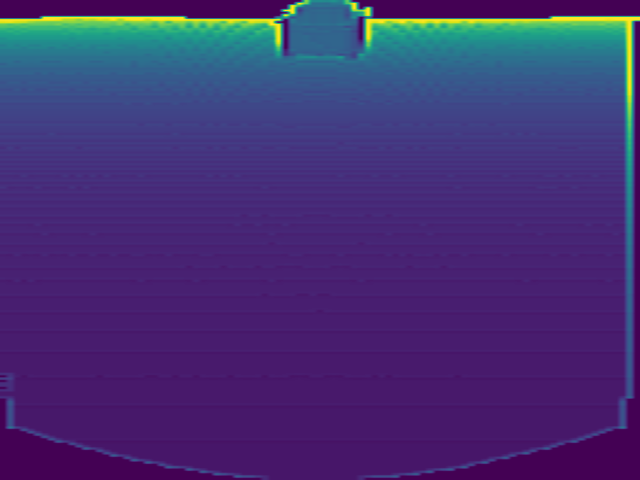car_0027: (276, 1, 370, 61)
